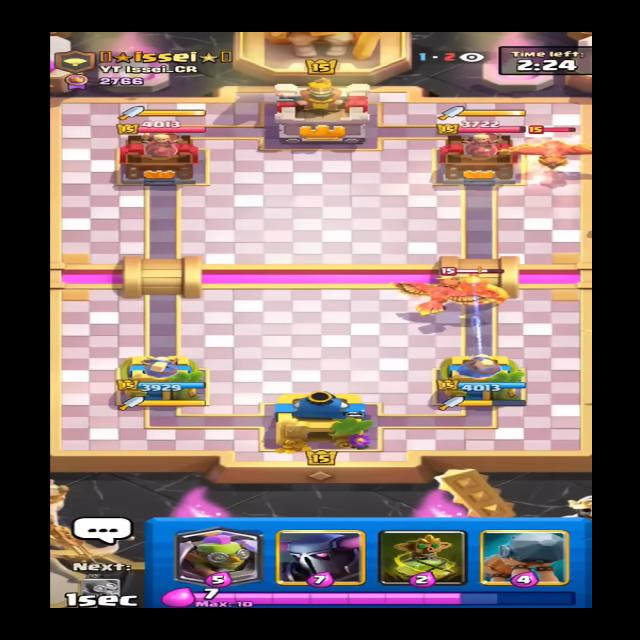goblin-demolisher: (434, 266, 512, 308)
phoenix: (499, 126, 600, 170)
